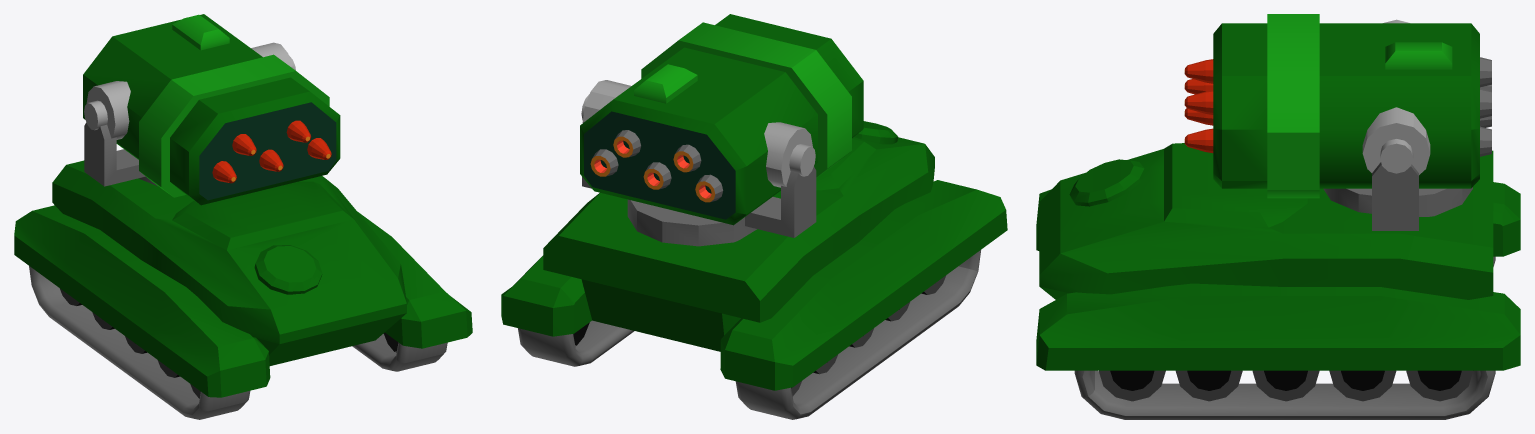
Rendered from Missle_Vehicles2_ver2.fbx.
The picture shows the model from 3 angles, left to right: view 1: azimuth 30°, elevation 25°; view 2: azimuth 150°, elevation 25°; view 3: azimuth 270°, elevation 25°; orthographic projection. The views are drawn at different scales.
Visible parts, largest first — view 1: body, Gun, Tie_R1, Top, Tie_R2; view 2: body, Gun, Top, Tie_R1, Tie_R2, Missile12, Missile14, Missile15, Missile16, Missile13; view 3: body, Gun, Tie_R2, Top, Missile13, Missile12, Missile14, Missile16.
Boxes of the visible parts, box(x1,y1,x2,y2) form: body: box(14, 160, 472, 397); Gun: box(83, 14, 340, 205); Tie_R1: box(29, 266, 250, 419); Top: box(84, 42, 295, 186); Tie_R2: box(352, 332, 447, 371); body: box(501, 121, 1007, 390); Gun: box(580, 14, 863, 225); Top: box(581, 80, 816, 246); Tie_R1: box(735, 250, 980, 419); Tie_R2: box(518, 320, 634, 366); Missile12: box(673, 144, 701, 172); Missile14: box(590, 149, 618, 176); Missile15: box(695, 174, 723, 202); Missile16: box(643, 162, 671, 189); Missile13: box(613, 130, 640, 157); body: box(1036, 143, 1520, 370); Gun: box(1213, 14, 1479, 198); Tie_R2: box(1074, 370, 1495, 419); Top: box(1323, 19, 1472, 230); Missile13: box(1184, 88, 1491, 118); Missile12: box(1184, 57, 1491, 87); Missile14: box(1184, 126, 1491, 156); Missile16: box(1184, 108, 1491, 127).
Size of the model in its own units: 203 by 198 by 274.
